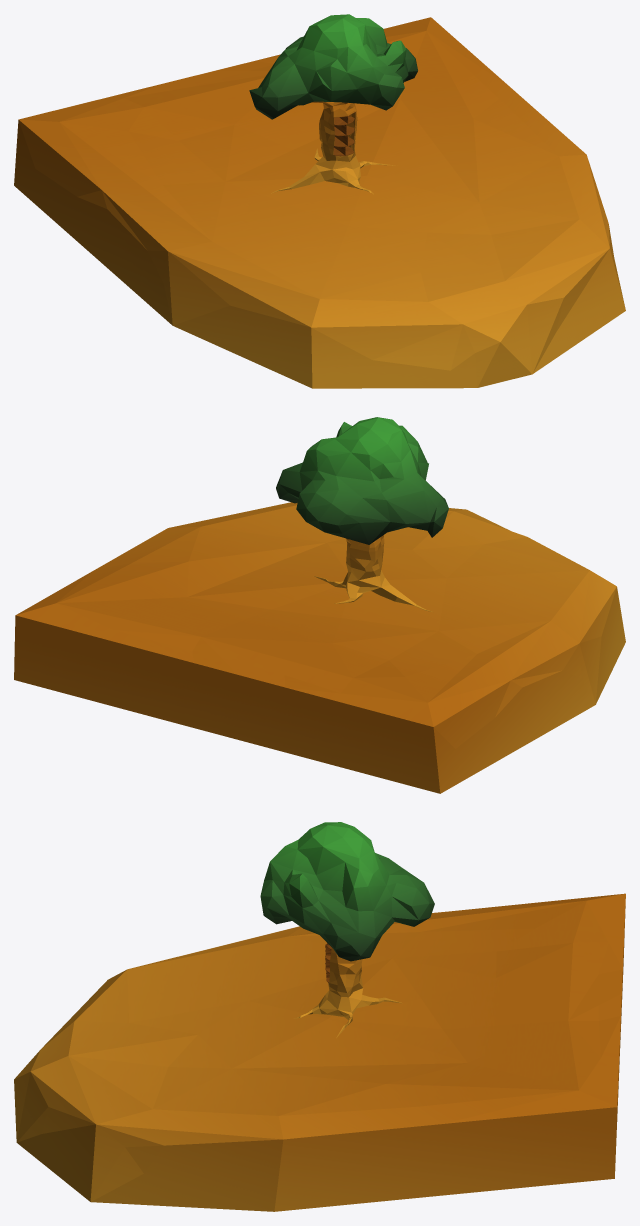
The picture shows the model from 3 angles, top to bottom: view 1: azimuth 30°, elevation 25°; view 2: azimuth 150°, elevation 25°; view 3: azimuth 270°, elevation 25°; orthographic projection. The views are drawn at different scales.
Parts seen in each view (by area): view 1: G1_DM_door_tree_msh.004, G1_DM_door_tree_msh.001, G1_DM_door_tree_msh.002; view 2: G1_DM_door_tree_msh.004, G1_DM_door_tree_msh.001, G1_DM_door_tree_msh.002; view 3: G1_DM_door_tree_msh.004, G1_DM_door_tree_msh.001, G1_DM_door_tree_msh.002.
Boxes of the visible parts, x1,y1,x2,y2 form: G1_DM_door_tree_msh.004: [14, 17, 625, 388]; G1_DM_door_tree_msh.001: [249, 14, 417, 119]; G1_DM_door_tree_msh.002: [271, 101, 395, 194]; G1_DM_door_tree_msh.004: [14, 502, 625, 793]; G1_DM_door_tree_msh.001: [276, 417, 448, 544]; G1_DM_door_tree_msh.002: [314, 535, 433, 612]; G1_DM_door_tree_msh.004: [14, 893, 625, 1211]; G1_DM_door_tree_msh.001: [260, 822, 434, 961]; G1_DM_door_tree_msh.002: [294, 947, 402, 1037].
Bounding box in the file's own units: 32.69 × 19.7 × 37.4.
Materials: 2 (1 with a texture image).
